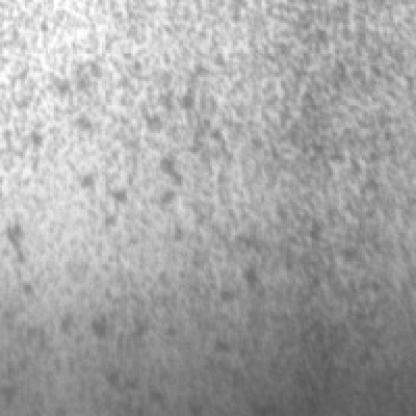pitted_surface: (25, 12, 410, 414)
